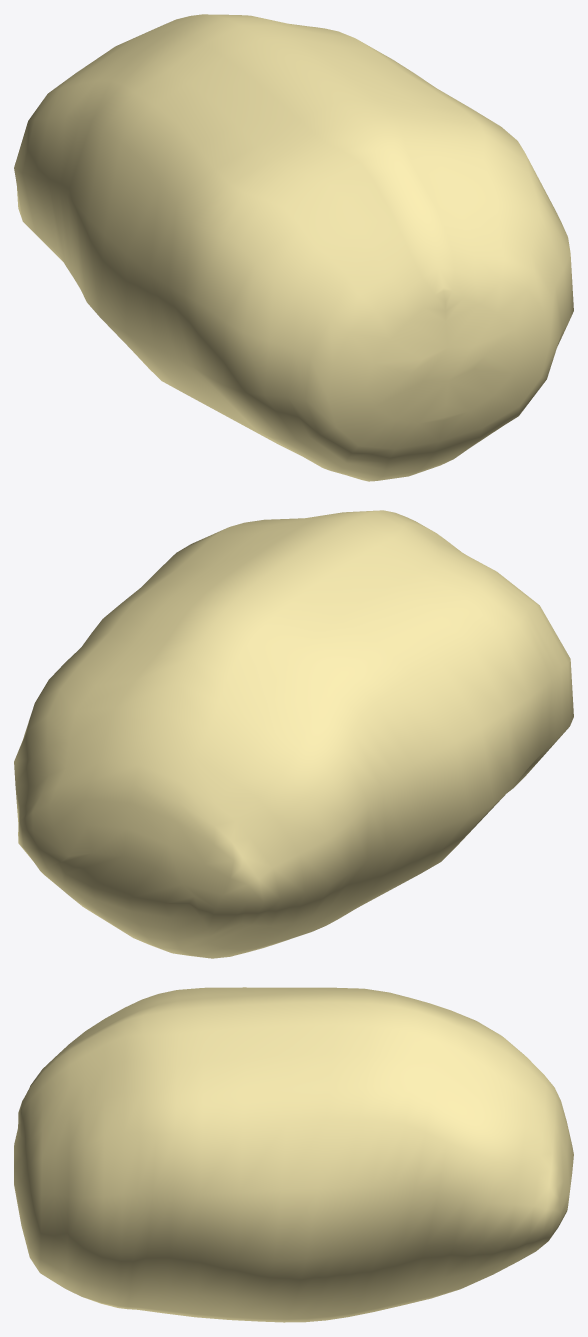
Rendered from potato.glb.
3 views of the same model, one above another, from view 1: azimuth 30°, elevation 25°; view 2: azimuth 150°, elevation 25°; view 3: azimuth 270°, elevation 25° (orthographic). The views are drawn at different scales.
Visible parts, largest first — view 1: polySurface1; view 2: polySurface1; view 3: polySurface1.
Part boxes in pixels (bbox=[...]): polySurface1: bbox=[14, 14, 573, 481]; polySurface1: bbox=[14, 510, 573, 958]; polySurface1: bbox=[14, 987, 573, 1322].
Bounding box in the file's own units: 0.3157 × 0.2775 × 0.4503.
